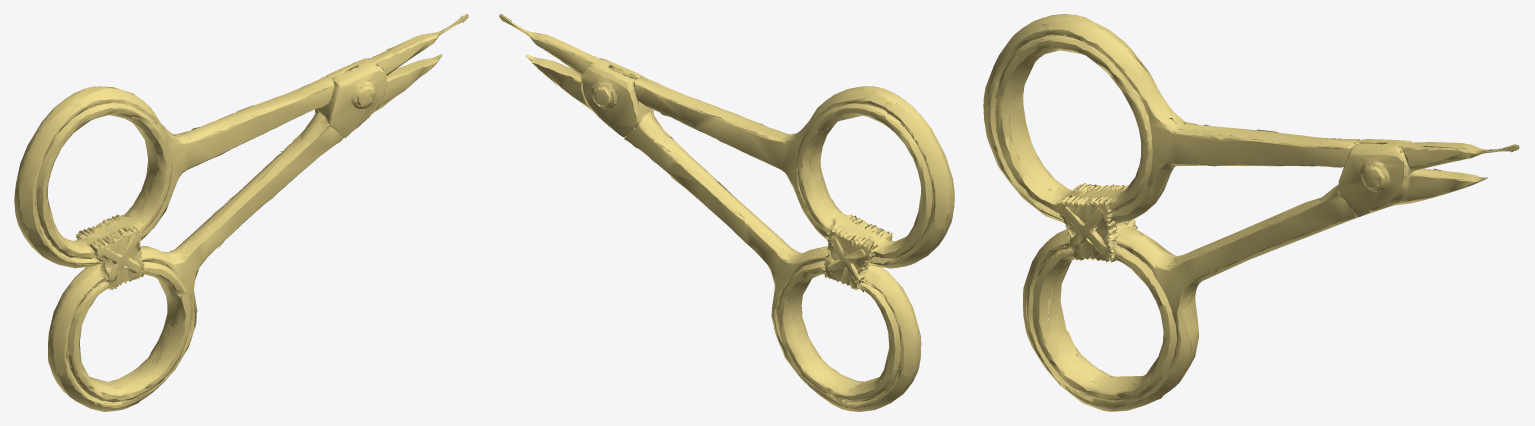
The model's file is equip_genera_laparoscopic_needl.glb.
3 renders of one model, left to right at view 1: azimuth 30°, elevation 25°; view 2: azimuth 150°, elevation 25°; view 3: azimuth 330°, elevation 25°, orthographic. The views are drawn at different scales.
Parts seen in each view (by area): view 1: world; view 2: world; view 3: world.
Boxes of the visible parts, <box> form: world: <box>14,14,468,411</box>; world: <box>499,14,954,411</box>; world: <box>983,14,1519,411</box>.
Size of the model in its own units: 0.1202 by 0.0826 by 0.0109.
